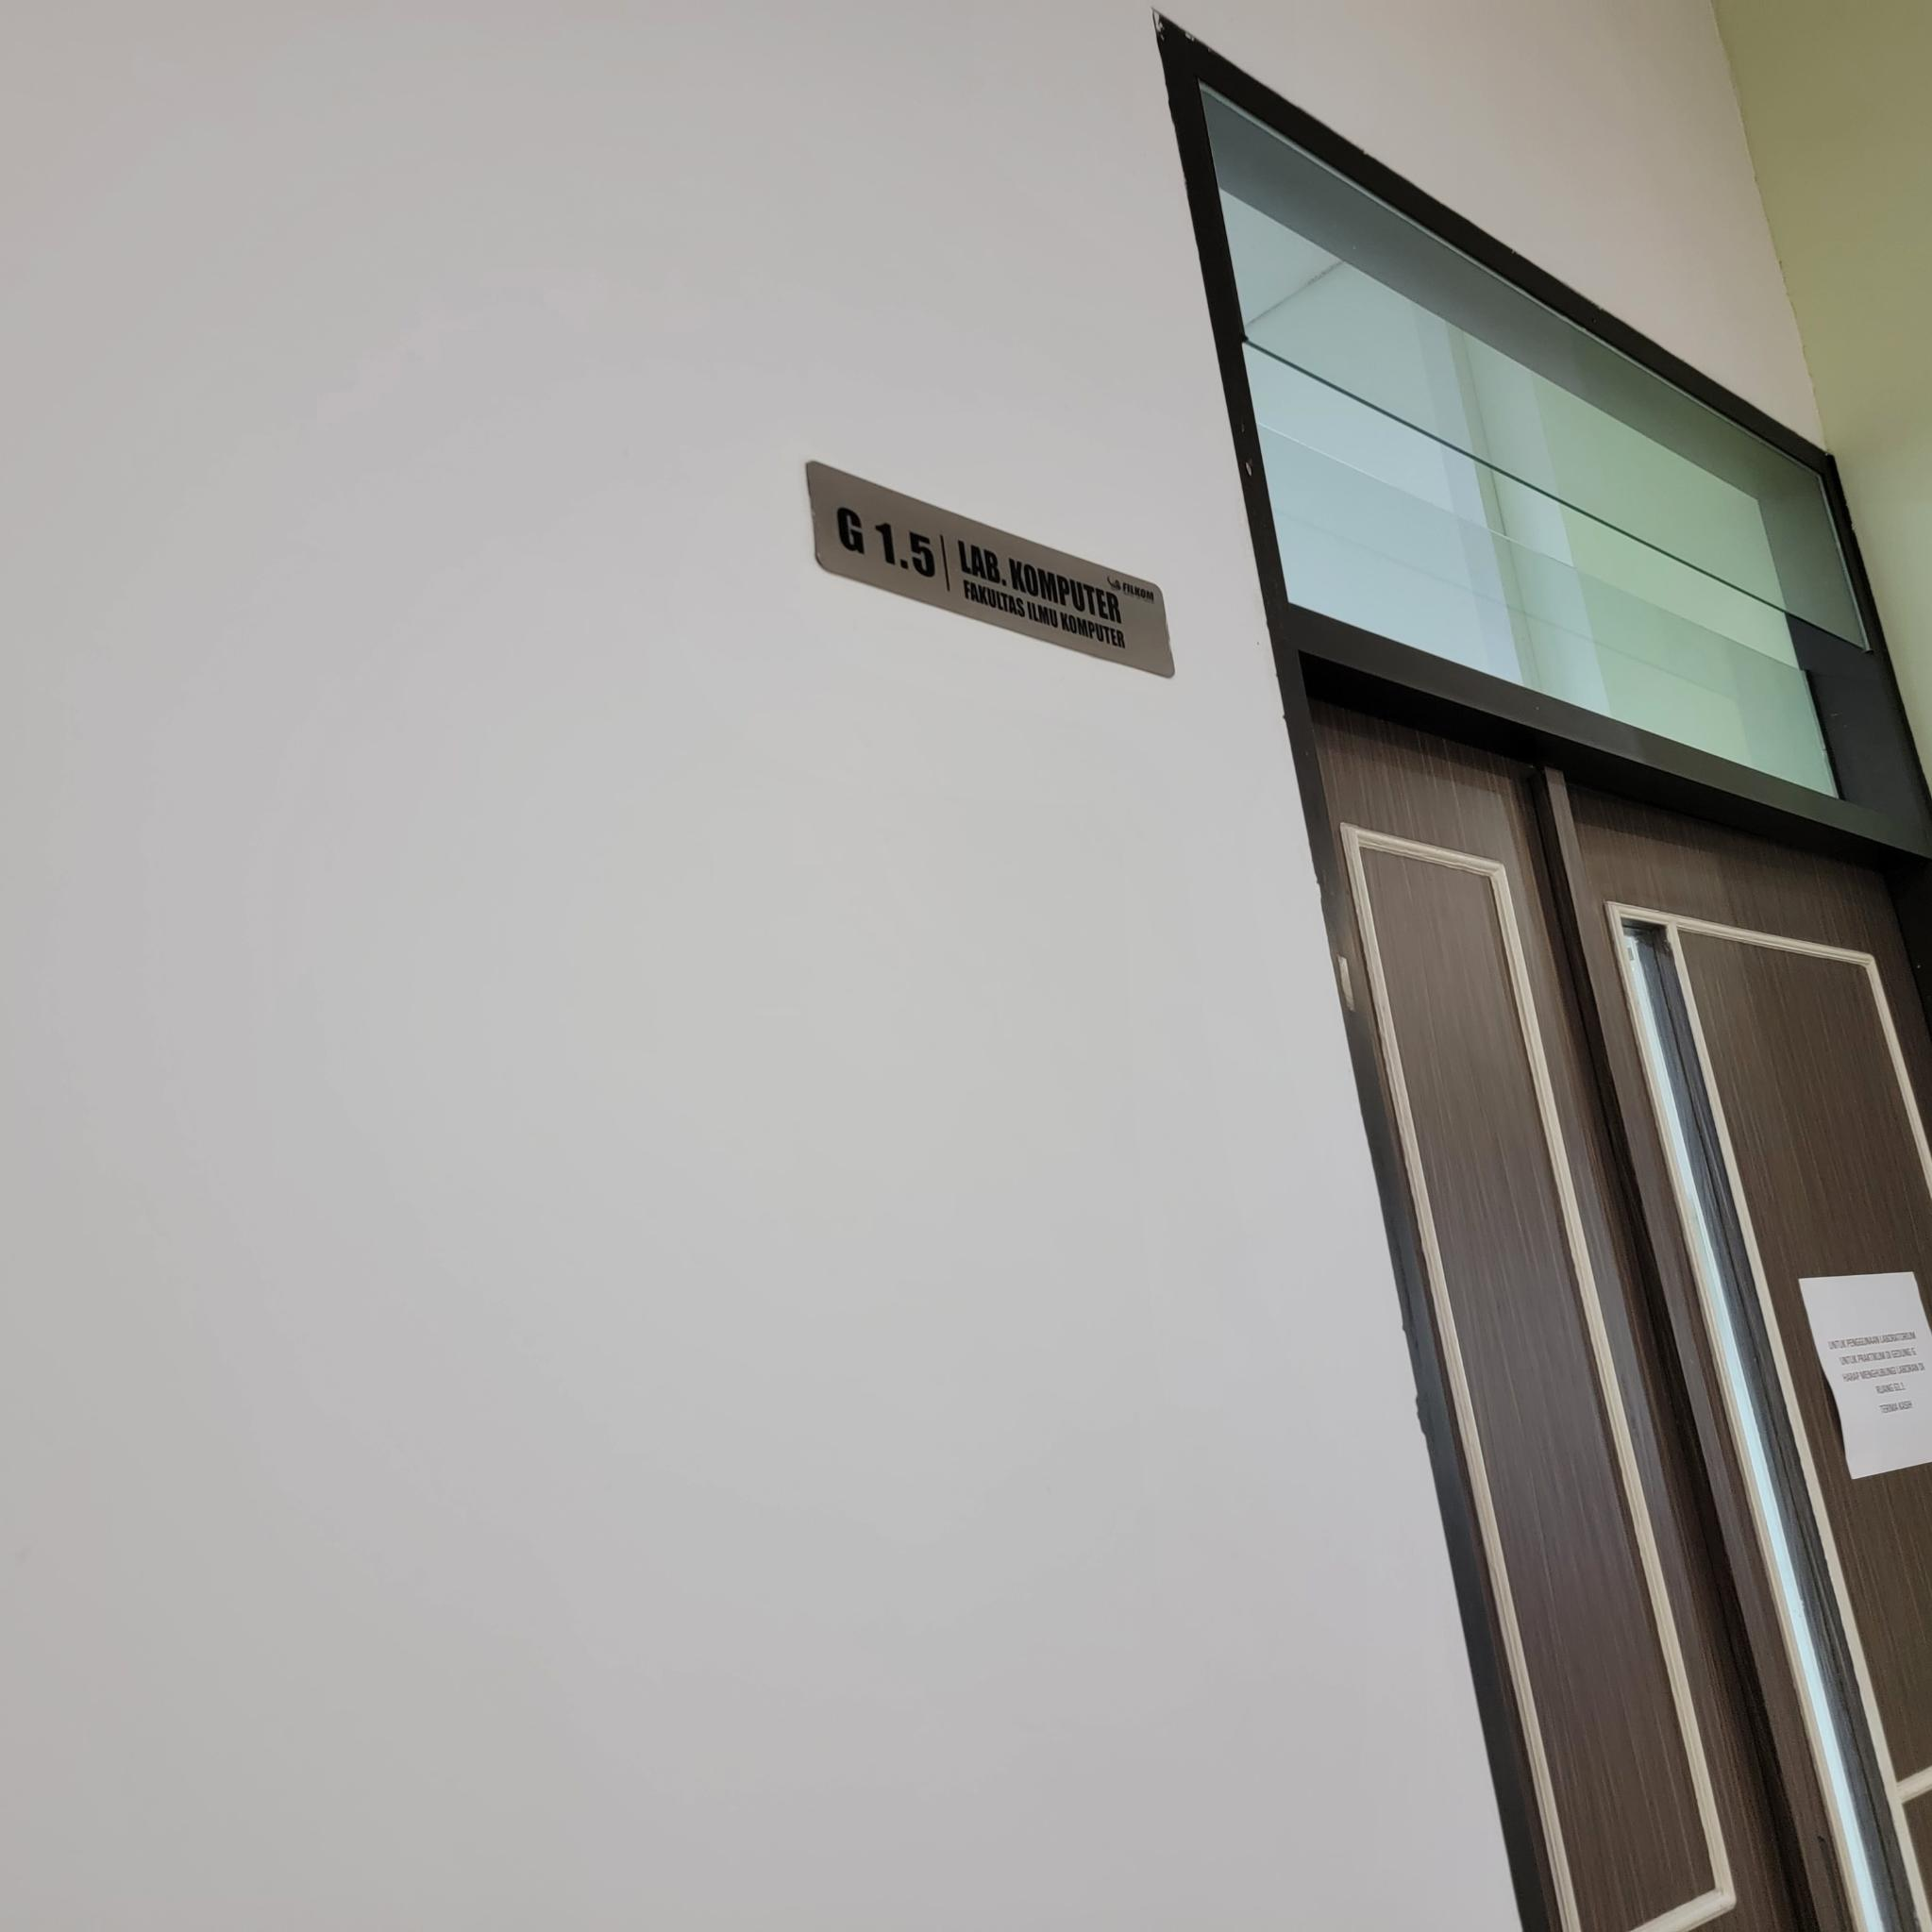plate: (807, 456, 1177, 679)
